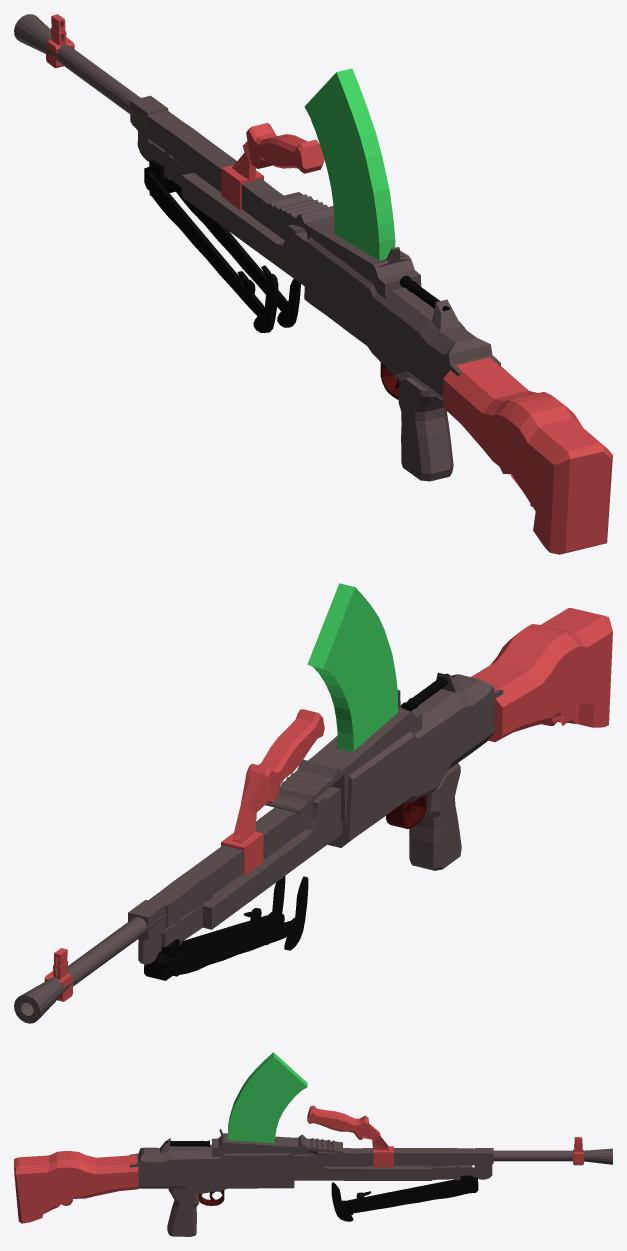
Rendered from brenMG.fbx.
The picture shows the model from 3 angles, top to bottom: view 1: azimuth 30°, elevation 25°; view 2: azimuth 150°, elevation 25°; view 3: azimuth 270°, elevation 25°; orthographic projection. The views are drawn at different scales.
Visible parts, largest first — view 1: Butt, Butt_Front, Magazine, Stand, Muzzle_Back, Magazine_Holder, Body, Handle, Front_Handle, Muzzle, Muzzle_Connector, Aiming; view 2: Butt, Butt_Front, Magazine, Stand, Front_Handle, Magazine_Holder, Body, Muzzle_Back, Handle, Muzzle, Muzzle_Connector, Triger (+1 smaller); view 3: Butt_Front, Butt, Magazine, Stand, Muzzle_Back, Body, Magazine_Holder, Front_Handle, Muzzle, Handle, Muzzle_Connector, Aiming.
Part boxes in pixels (left/top/right/bottom): Butt: left=443, top=357, right=612, bottom=554; Butt_Front: left=304, top=232, right=500, bottom=401; Magazine: left=304, top=68, right=395, bottom=260; Stand: left=144, top=159, right=300, bottom=332; Muzzle_Back: left=146, top=110, right=306, bottom=240; Magazine_Holder: left=262, top=192, right=421, bottom=298; Body: left=181, top=173, right=307, bottom=286; Handle: left=398, top=377, right=453, bottom=481; Front_Handle: left=221, top=123, right=324, bottom=210; Muzzle: left=14, top=14, right=185, bottom=132; Muzzle_Connector: left=130, top=95, right=194, bottom=187; Aiming: left=46, top=14, right=74, bottom=68; Butt: left=471, top=608, right=612, bottom=742; Butt_Front: left=327, top=672, right=503, bottom=847; Magazine: left=307, top=583, right=398, bottom=752; Stand: left=144, top=876, right=308, bottom=980; Front_Handle: left=221, top=709, right=324, bottom=875; Magazine_Holder: left=265, top=690, right=422, bottom=822; Body: left=202, top=786, right=342, bottom=929; Muzzle_Back: left=148, top=801, right=313, bottom=927; Handle: left=409, top=763, right=461, bottom=870; Muzzle: left=14, top=882, right=185, bottom=1023; Muzzle_Connector: left=128, top=900, right=203, bottom=964; Triger: left=386, top=795, right=427, bottom=828; Butt_Front: left=129, top=1138, right=294, bottom=1194; Butt: left=14, top=1151, right=138, bottom=1223; Magazine: left=228, top=1052, right=307, bottom=1143; Stand: left=331, top=1175, right=478, bottom=1221; Muzzle_Back: left=294, top=1148, right=474, bottom=1166; Body: left=293, top=1153, right=432, bottom=1180; Magazine_Holder: left=211, top=1129, right=342, bottom=1175; Front_Handle: left=307, top=1105, right=393, bottom=1167; Muzzle: left=445, top=1148, right=612, bottom=1164; Handle: left=167, top=1188, right=199, bottom=1236; Muzzle_Connector: left=431, top=1148, right=493, bottom=1180; Aiming: left=573, top=1137, right=583, bottom=1165.
Bounding box in the file's own units: 51.37 × 299 × 907.
